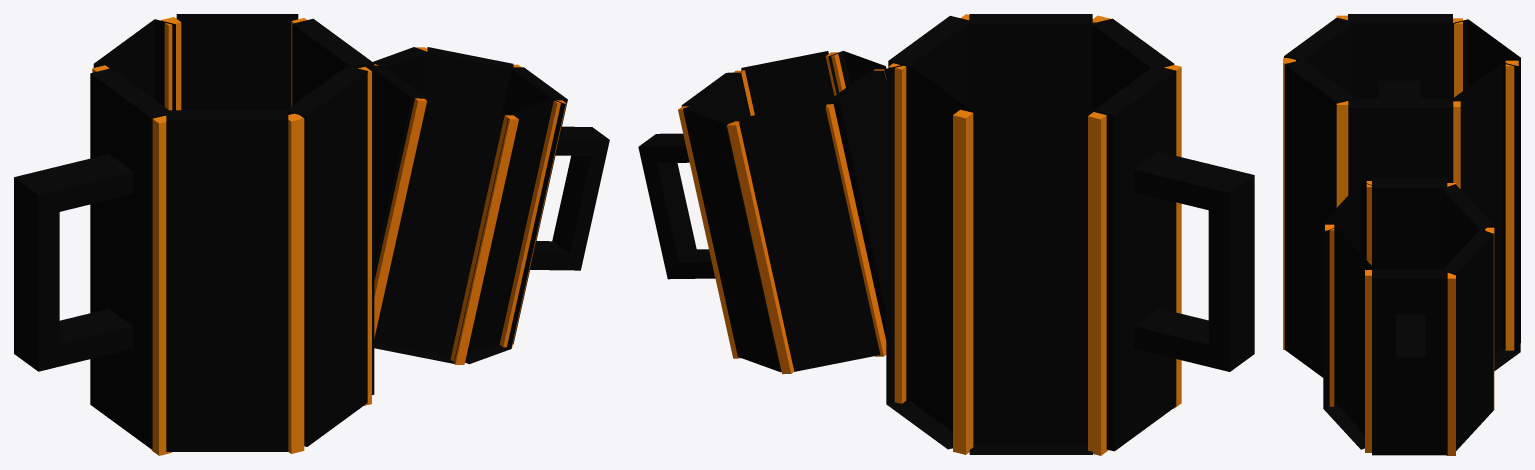
The model's file is towerOfBrandy.glb.
The picture shows the model from 3 angles, left to right: view 1: azimuth 30°, elevation 25°; view 2: azimuth 150°, elevation 25°; view 3: azimuth 270°, elevation 25°; orthographic projection. The views are drawn at different scales.
Visible parts, largest first — view 1: Cube.127, Cube.114, Cube.019, Cube.108, Cube.107, Cube.020, Cube.104, Cube, Cube.001, Cube.016, Cube.103, Cube.126 (+13 smaller); view 2: Cube.106, Cube.017, Cube.108, Cube.107, Cube.114, Cube.015, Cube.016, Cube.104, Cube.004, Cube.005, Cube.126, Cube.103 (+13 smaller); view 3: Cube.114, Cube.018, Cube.107, Cube.126, Cube.108, Cube.015, Cube.020, Cube.016, Cube.004, Cube.127, Cube.106, Cube.021 (+13 smaller).
Boxes of the visible parts, left/top/right/bottom form: Cube.127: left=166, top=110, right=288, bottom=451; Cube.114: left=287, top=66, right=368, bottom=446; Cube.019: left=374, top=97, right=508, bottom=363; Cube.108: left=90, top=68, right=171, bottom=449; Cube.107: left=176, top=14, right=298, bottom=110; Cube.020: left=465, top=98, right=565, bottom=364; Cube.104: left=14, top=188, right=59, bottom=371; Cube: left=288, top=113, right=304, bottom=453; Cube.001: left=151, top=115, right=171, bottom=455; Cube.016: left=374, top=65, right=426, bottom=280; Cube.103: left=14, top=154, right=133, bottom=216; Cube.126: left=292, top=18, right=374, bottom=394; Cube.106: left=969, top=109, right=1092, bottom=454; Cube.017: left=739, top=101, right=880, bottom=371; Cube.108: left=1093, top=65, right=1176, bottom=451; Cube.107: left=886, top=64, right=969, bottom=449; Cube.114: left=969, top=14, right=1092, bottom=111; Cube.015: left=683, top=103, right=781, bottom=372; Cube.016: left=826, top=70, right=886, bottom=340; Cube.104: left=1208, top=186, right=1254, bottom=369; Cube.004: left=953, top=109, right=973, bottom=454; Cube.005: left=1088, top=112, right=1108, bottom=455; Cube.126: left=888, top=15, right=969, bottom=401; Cube.103: left=1133, top=151, right=1254, bottom=210; Cube.114: left=1284, top=60, right=1355, bottom=377; Cube.018: left=1372, top=269, right=1447, bottom=455; Cube.107: left=1452, top=62, right=1520, bottom=370; Cube.126: left=1348, top=99, right=1453, bottom=194; Cube.108: left=1348, top=14, right=1452, bottom=98; Cube.015: left=1443, top=229, right=1493, bottom=450; Cube.020: left=1323, top=227, right=1373, bottom=449; Cube.016: left=1372, top=178, right=1447, bottom=269; Cube.004: left=1505, top=60, right=1518, bottom=350; Cube.127: left=1284, top=17, right=1353, bottom=96; Cube.106: left=1450, top=19, right=1520, bottom=342; Cube.021: left=1395, top=363, right=1425, bottom=451.
Size of the model in its own units: 11.15 by 6.11 by 4.58.
